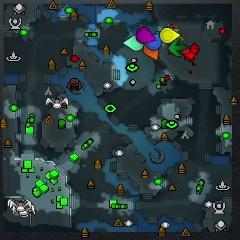p1: (145, 33, 160, 50)
p2: (124, 35, 143, 51)
p3: (136, 28, 154, 44)
p4: (159, 27, 180, 43)
p5: (143, 43, 159, 59)
x2: (172, 27, 183, 41)
x4: (169, 40, 185, 56)
